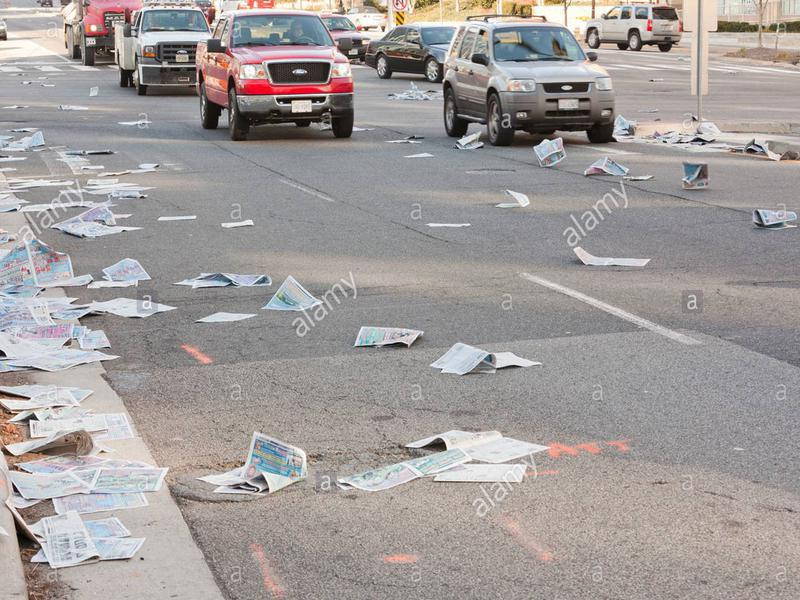paper: (1, 379, 173, 572), (1, 228, 176, 379), (1, 114, 204, 239), (337, 418, 560, 506), (199, 424, 316, 507), (429, 322, 550, 382), (340, 315, 437, 357), (260, 266, 327, 322), (566, 236, 655, 277), (577, 145, 657, 190), (175, 257, 277, 292), (737, 197, 800, 235), (187, 304, 264, 334), (519, 134, 574, 174)
